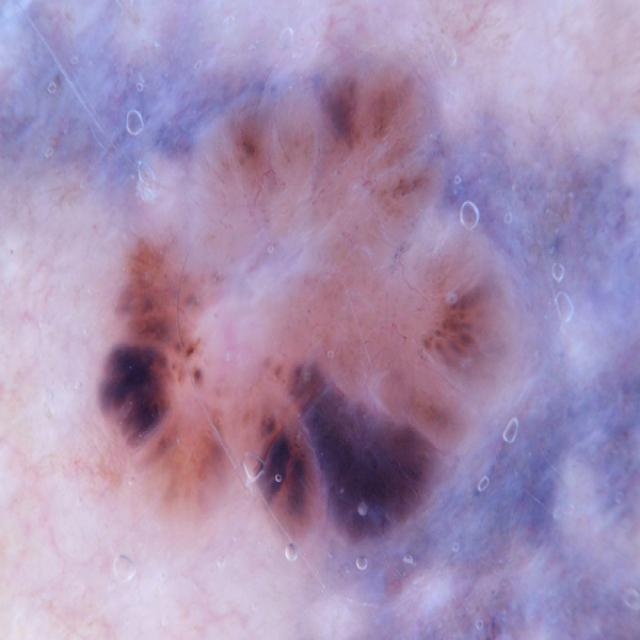Skin-Cancer Basal cell carcinoma: (16, 12, 617, 640)
